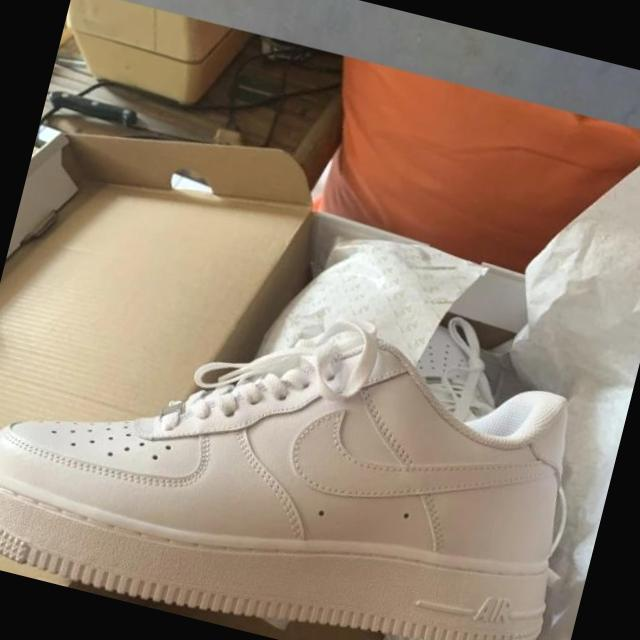nike_original_airforce: (0, 243, 603, 640)
